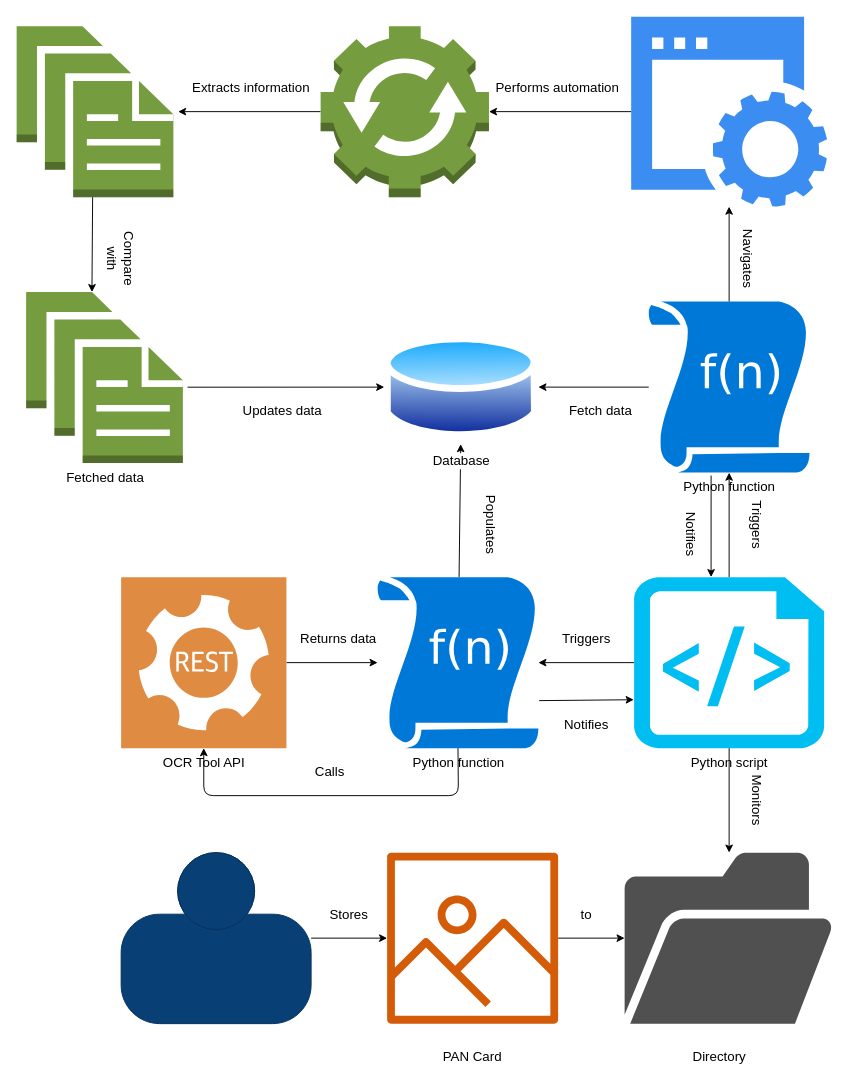
Image size: 850x1087. Some labels were removed from this diagram. Each missing label, with the centre of its shape:
PAN Platform: pixel 729 111
Site data: pixel 94 111
User [Person] This is a business user.: pixel 215 938
